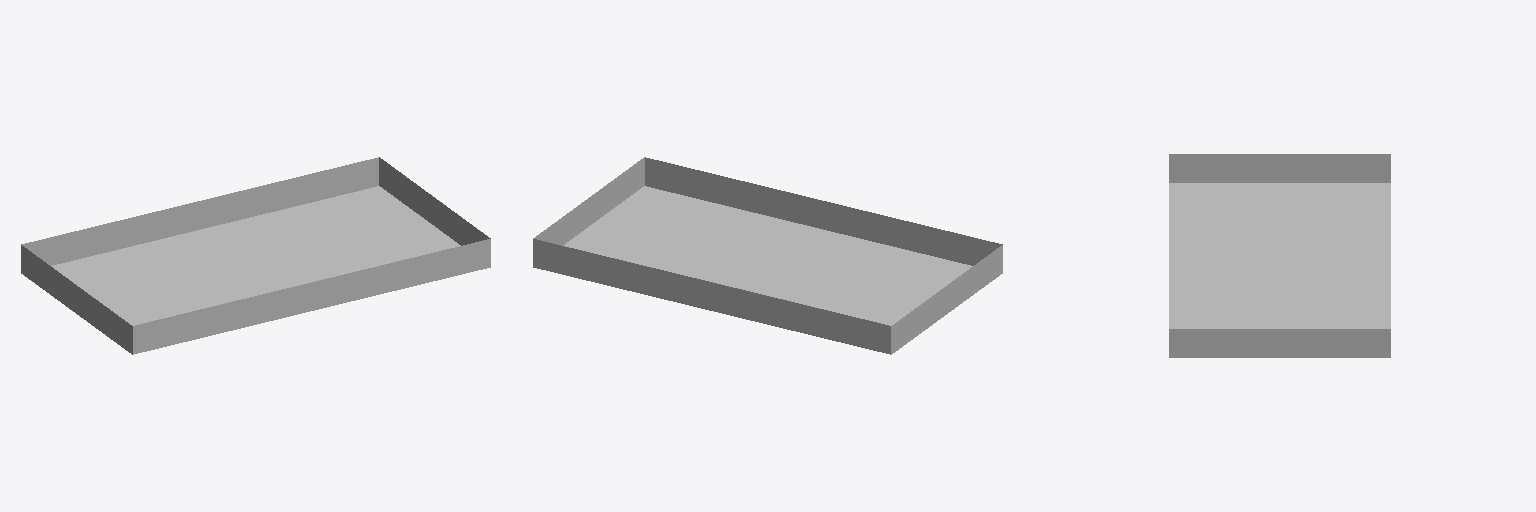
Rendered from mclanche4.obj.
3 renders of one model, left to right at view 1: azimuth 30°, elevation 25°; view 2: azimuth 150°, elevation 25°; view 3: azimuth 270°, elevation 25°, orthographic.
Visible parts, largest first — view 1: bone; view 2: bone; view 3: bone.
Boxes of the visible parts, x1,y1,x2,y2 form: bone: [21, 157, 490, 354]; bone: [533, 157, 1002, 354]; bone: [1169, 154, 1390, 357].
Bounding box in the file's own units: 0.8125 × 0.0625 × 0.4375.